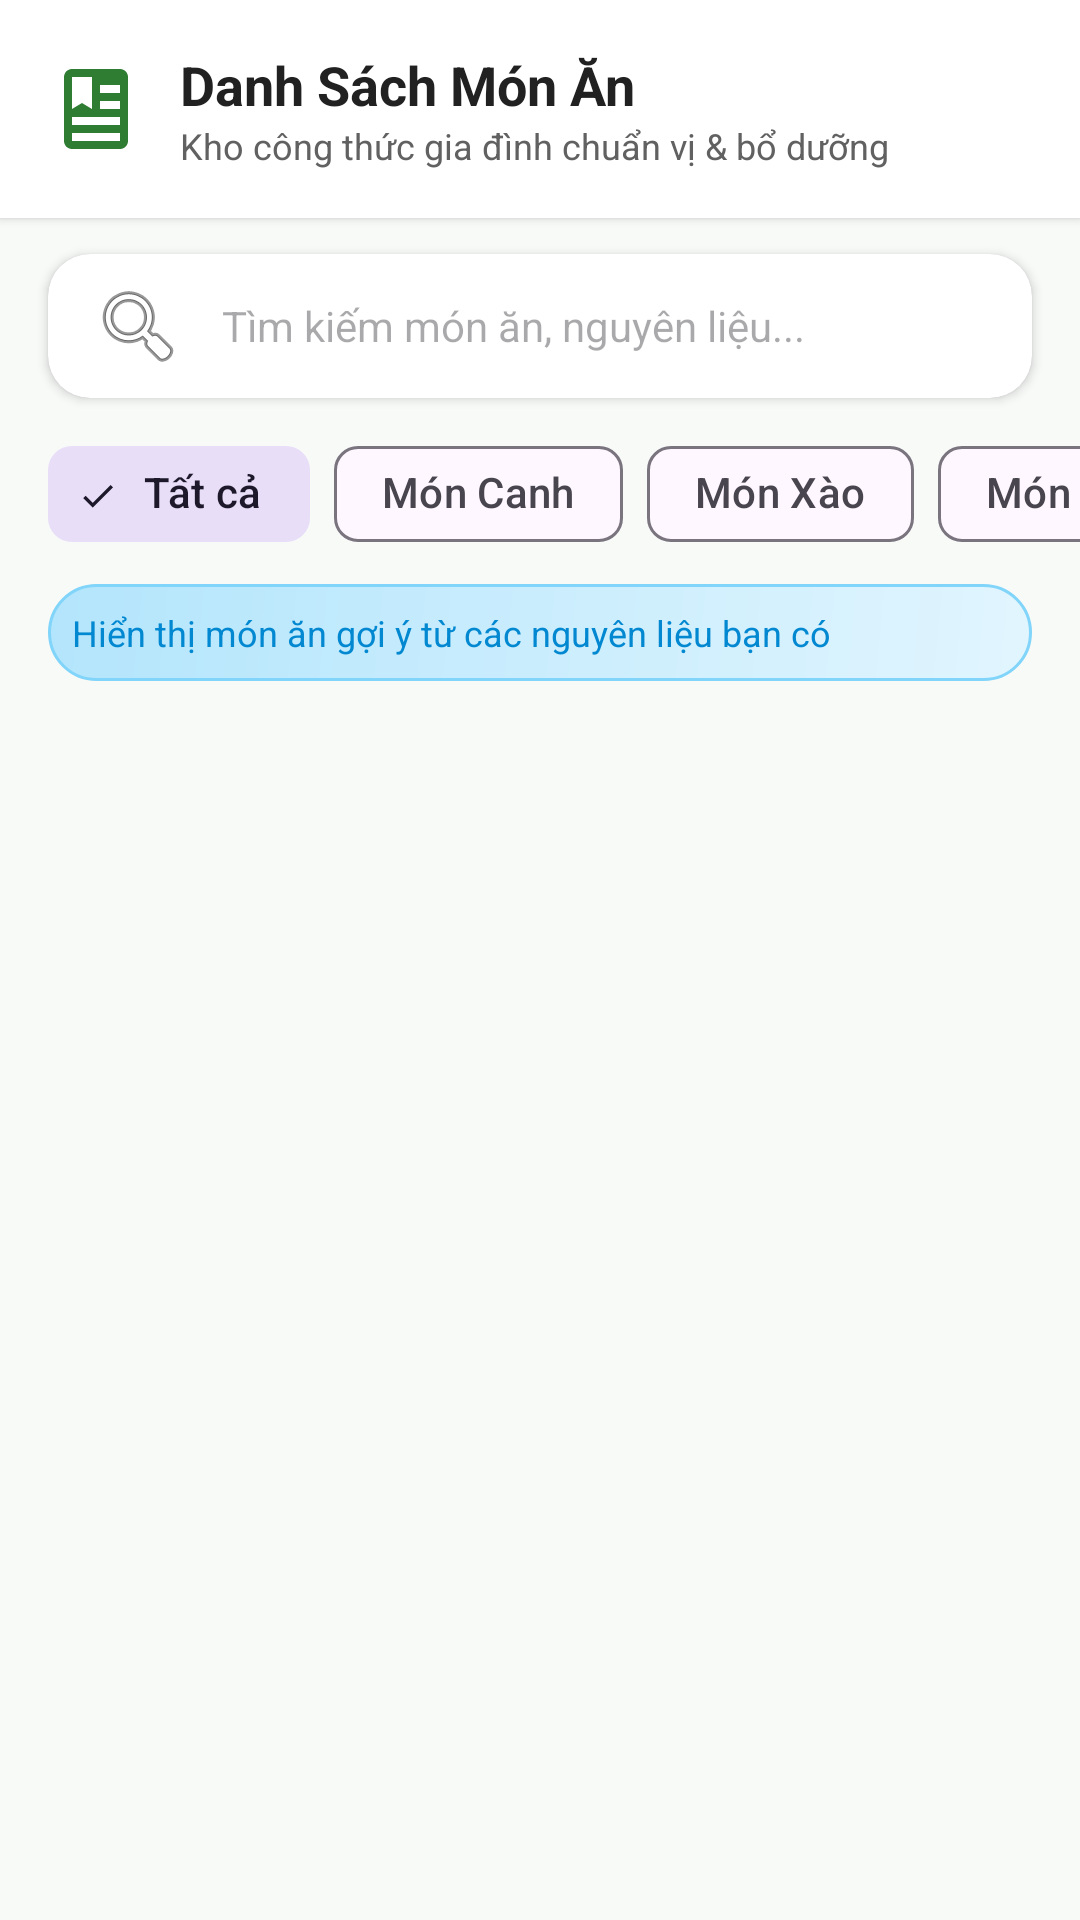

Point at icon controls on the screen. Image size 1080w x 1920h, points as (x,y).
recipes: (96,109)
